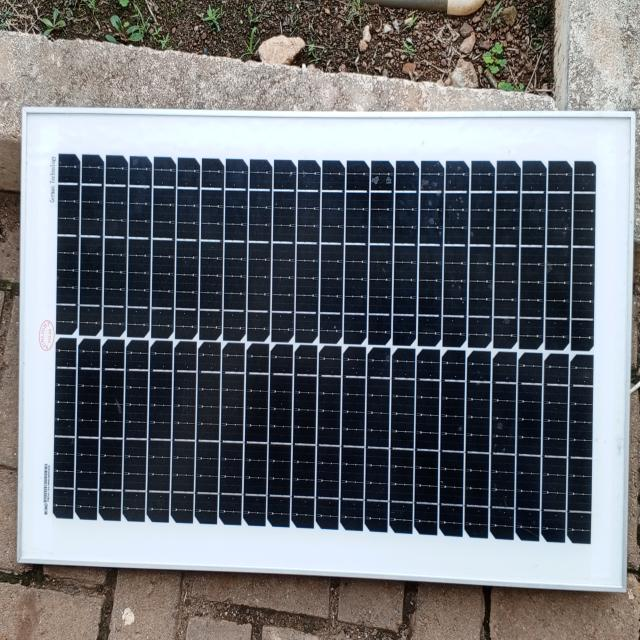Clean: (41, 125, 609, 564)
